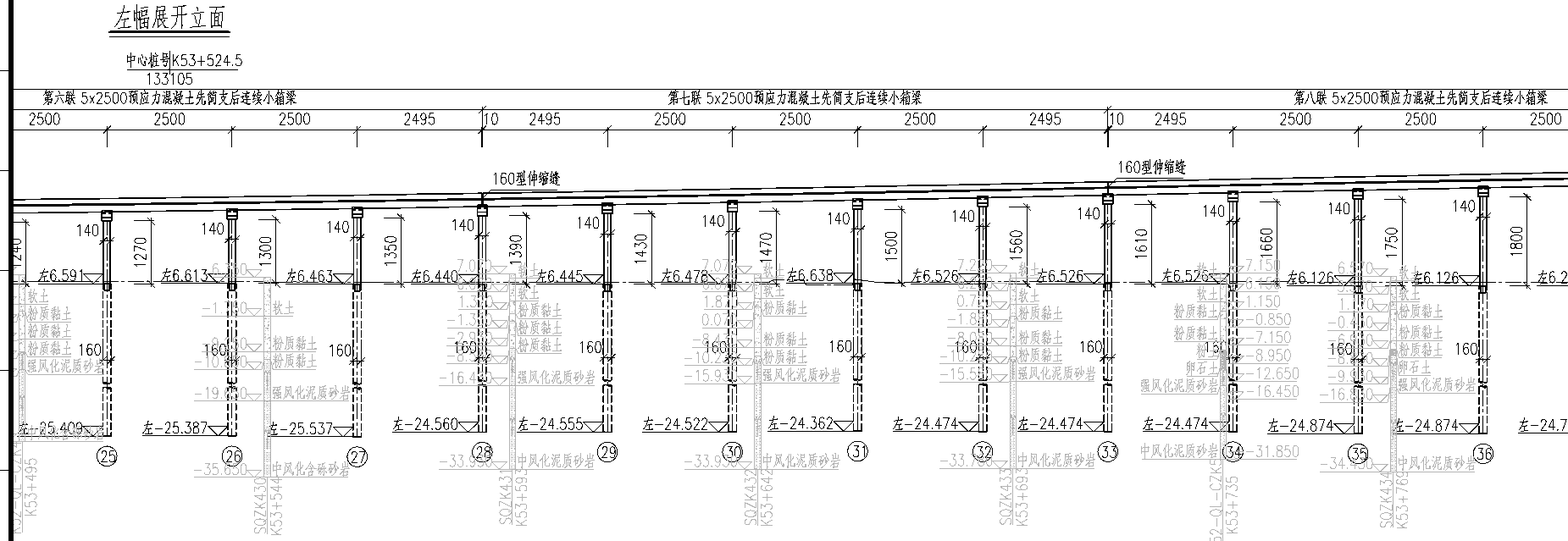C: (1272, 184, 1381, 470), (898, 191, 1004, 466), (647, 195, 753, 467), (1406, 181, 1501, 471), (399, 200, 502, 467), (1030, 188, 1128, 468), (528, 196, 629, 467), (152, 201, 253, 472), (277, 201, 377, 473), (779, 192, 876, 467), (1160, 185, 1251, 467), (33, 204, 127, 472)
